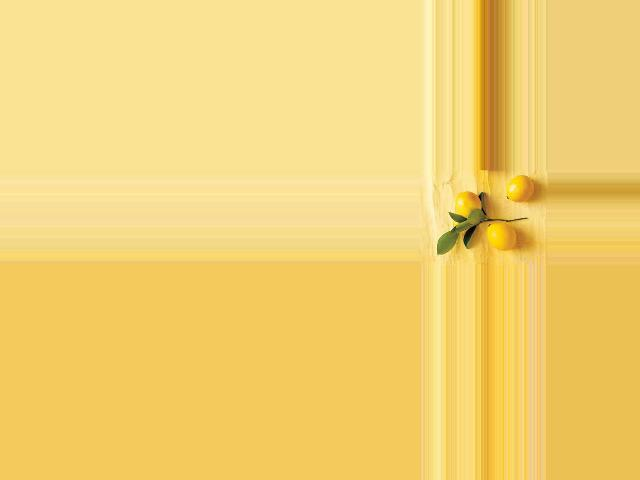lemon: (503, 174, 538, 204)
